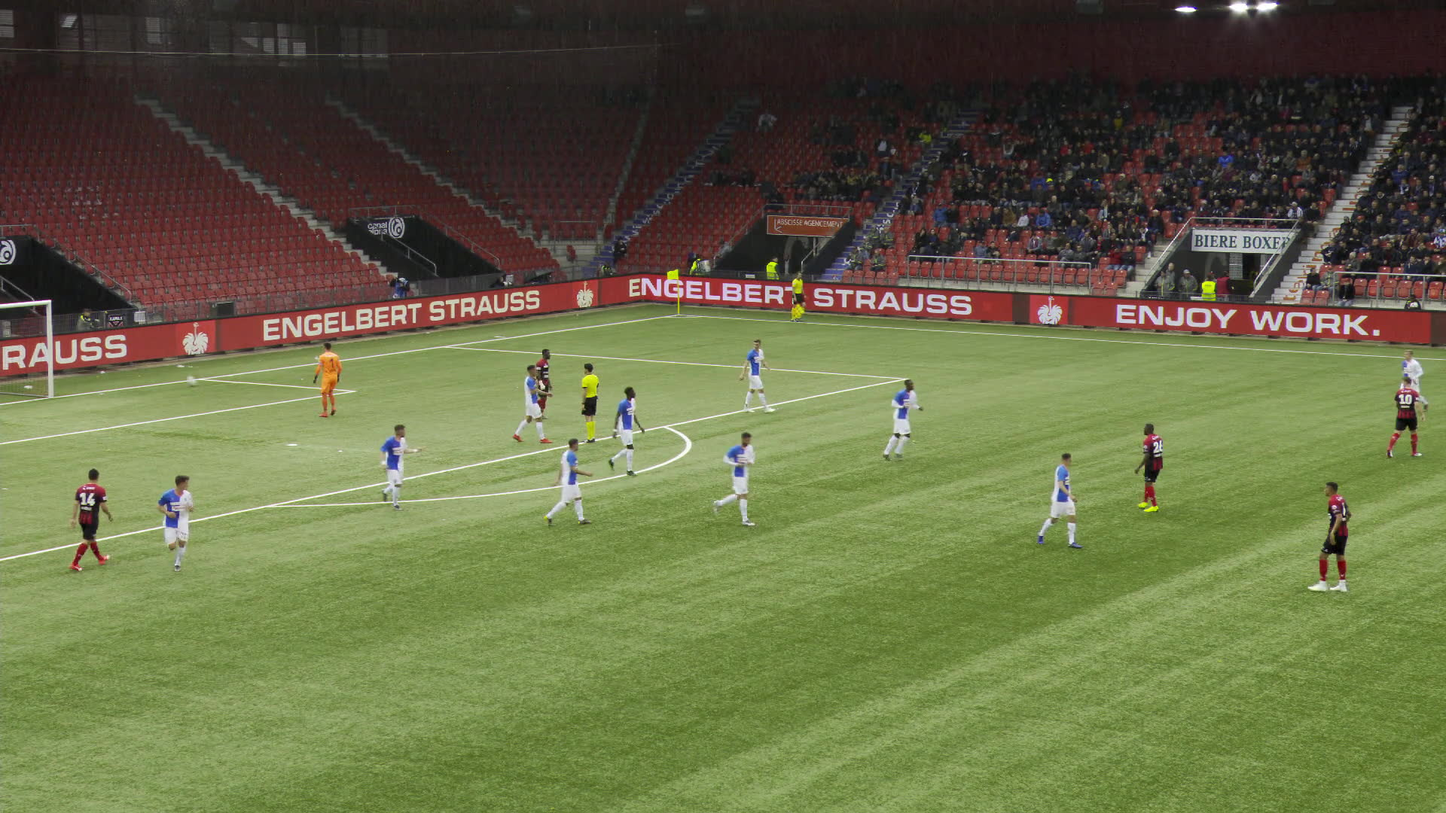player: (1304, 480, 1352, 594), (371, 419, 421, 512), (69, 464, 111, 571), (155, 467, 196, 570), (1040, 450, 1082, 547), (712, 429, 754, 525), (873, 379, 920, 461), (548, 436, 589, 528), (605, 385, 644, 476), (1130, 421, 1166, 513), (1387, 373, 1425, 459), (514, 363, 548, 444), (312, 343, 346, 420), (521, 349, 556, 421), (740, 339, 768, 414), (1393, 349, 1421, 416)
referee: (575, 362, 602, 443), (787, 271, 809, 321)
